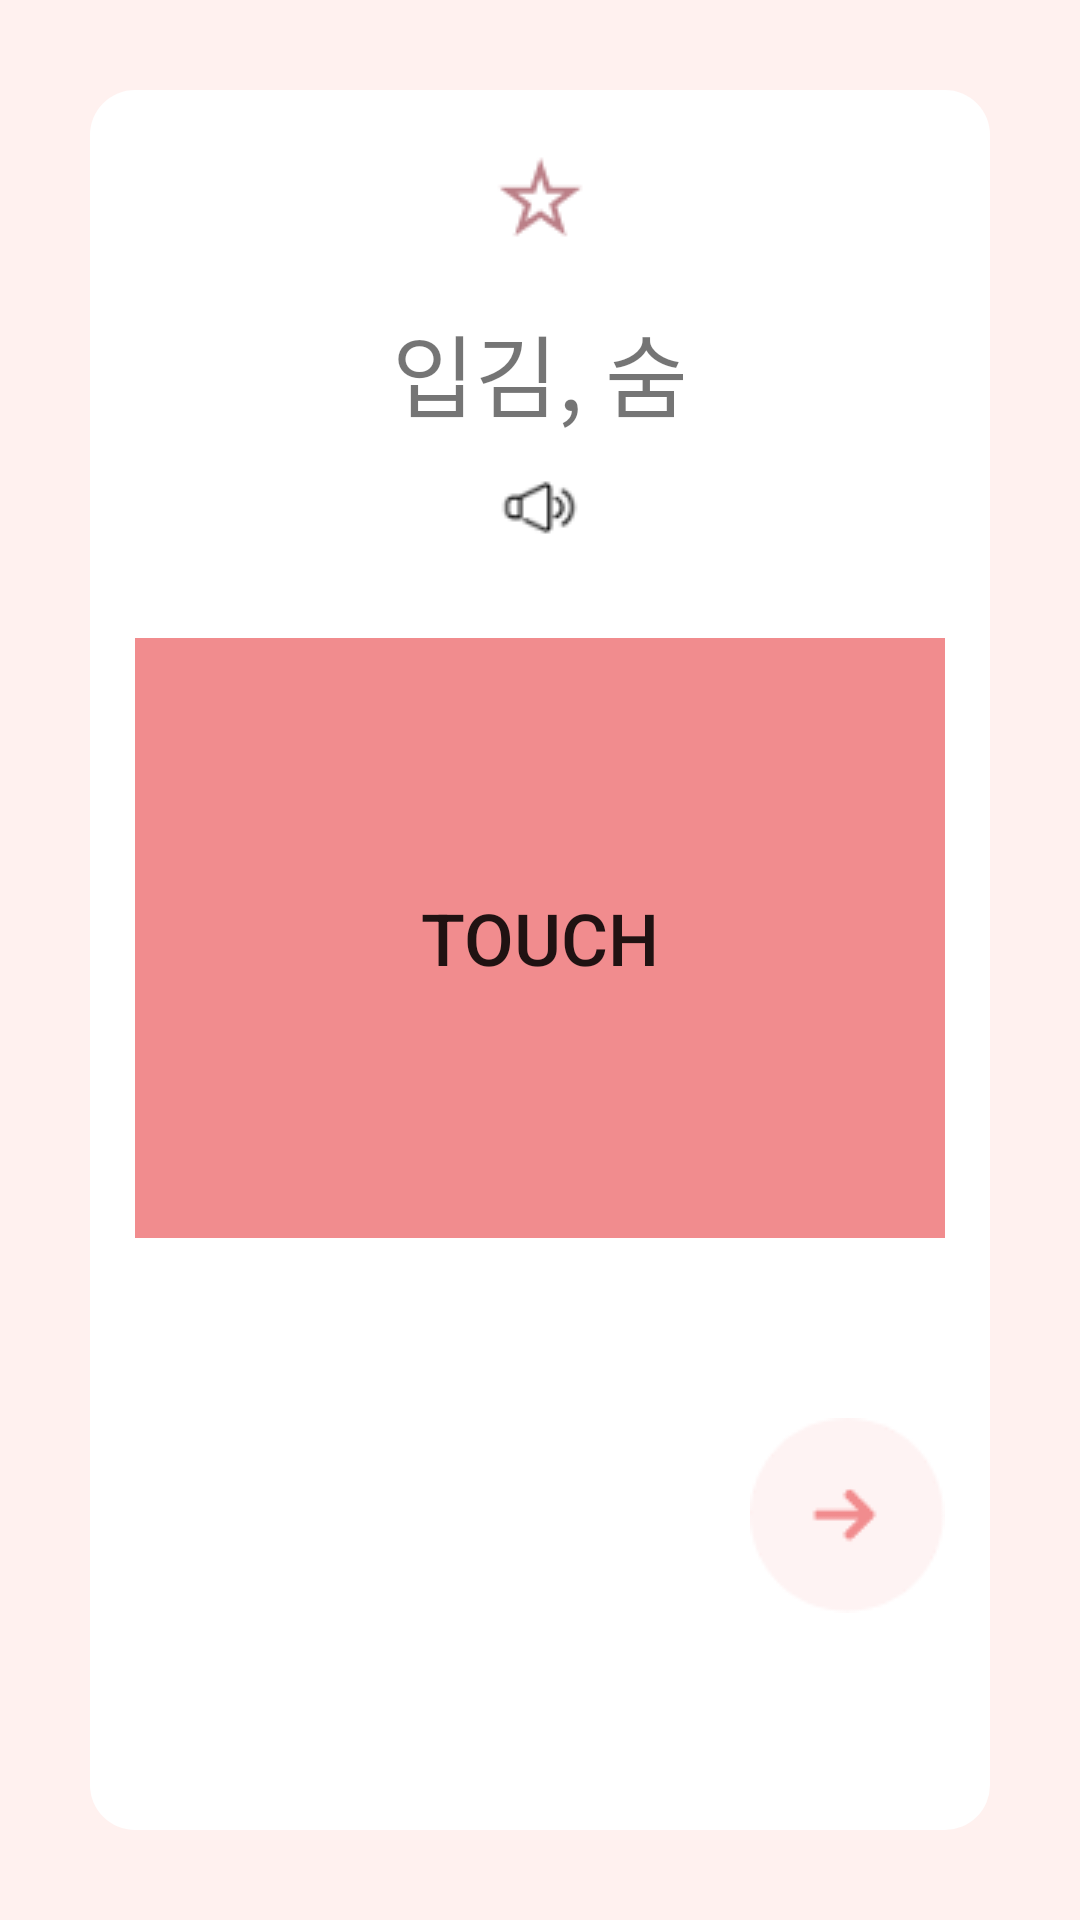

Icons on this 1080×1920 Android screen, each with the point to tap as (x,y):
next: (846,1514)
speaker: (540,507)
star: (540,197)
